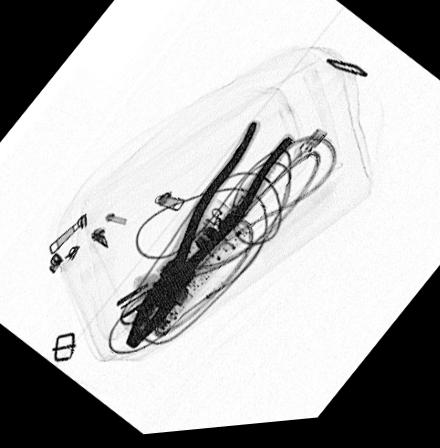Pliers: (121, 119, 295, 355)
